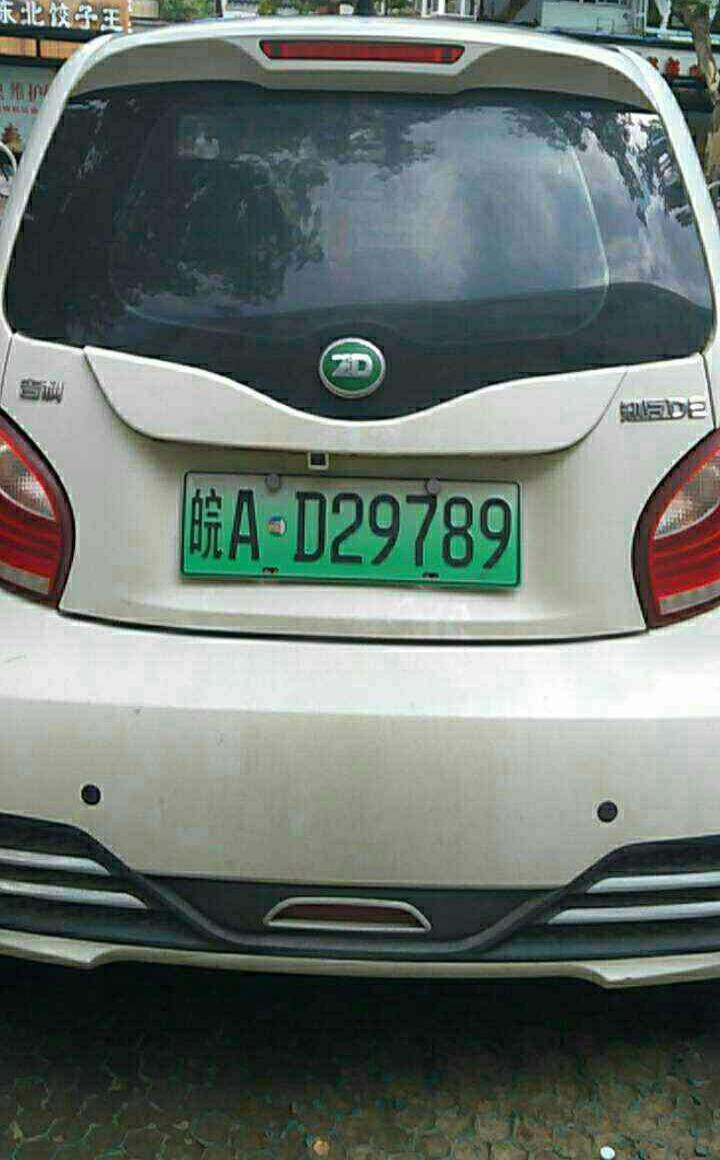car_id: (179, 470, 521, 588)
